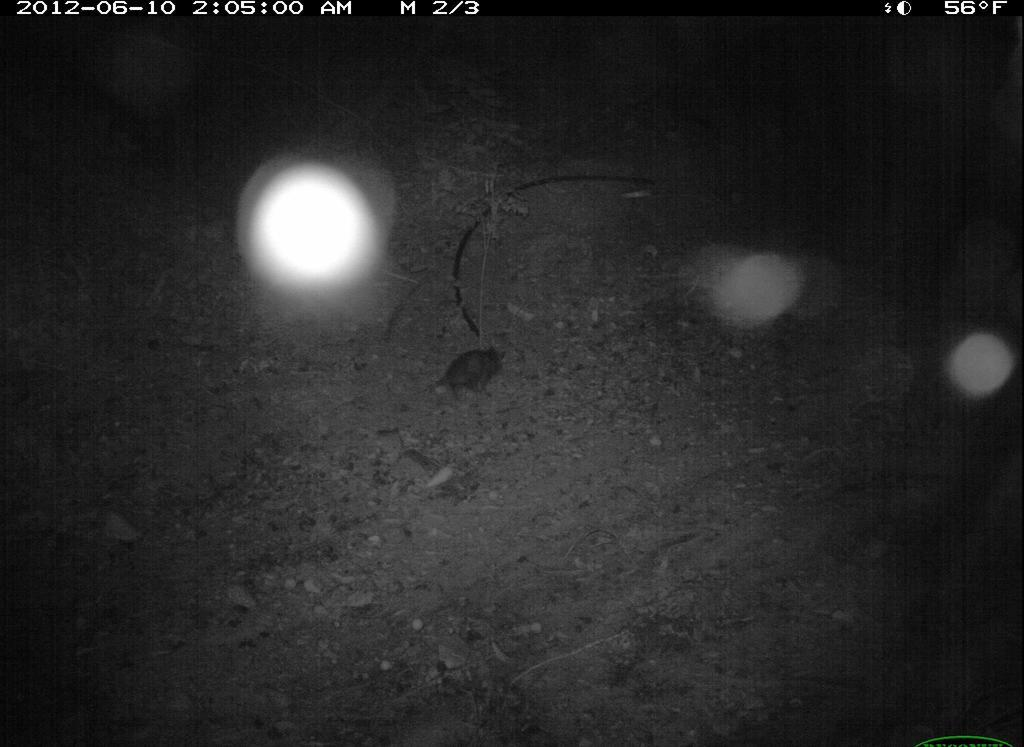opossum: (429, 344, 516, 411)
